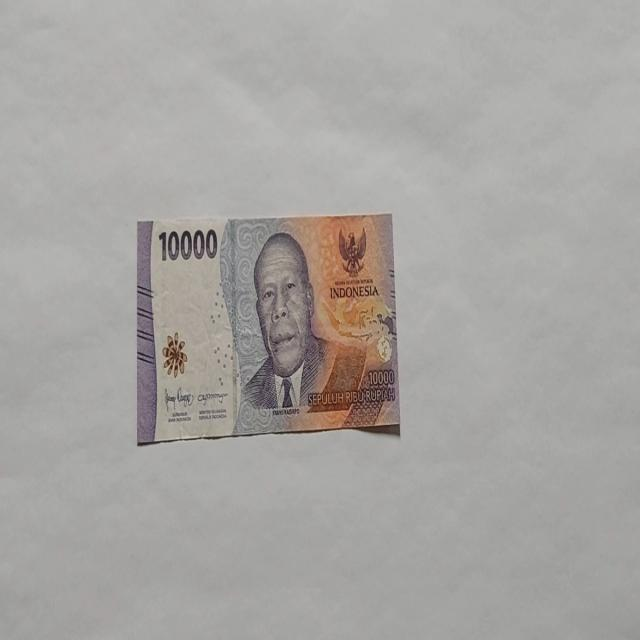sepuluh ribu rupiah: (135, 212, 401, 446), (231, 228, 369, 434)
